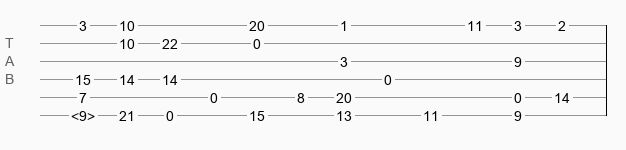0: (166, 108, 174, 118), (210, 90, 218, 100), (253, 36, 261, 46), (384, 72, 392, 82), (514, 90, 522, 100)
1: (340, 18, 348, 28)
10: (119, 18, 135, 28), (119, 36, 135, 46)
11: (423, 108, 439, 118), (467, 18, 483, 28)
13: (336, 108, 352, 118)
14: (119, 72, 135, 82), (162, 72, 178, 82), (554, 90, 570, 100)
15: (75, 72, 91, 82), (249, 108, 265, 118)
2: (558, 18, 566, 28)
20: (249, 18, 265, 28), (336, 90, 352, 100)
21: (119, 108, 135, 118)
22: (162, 36, 178, 46)
3: (79, 18, 87, 28), (340, 54, 348, 64), (514, 18, 522, 28)
7: (79, 90, 87, 100)
8: (297, 90, 305, 100)
9: (514, 108, 522, 118), (514, 54, 522, 64)
harmonic: (71, 108, 95, 118)
